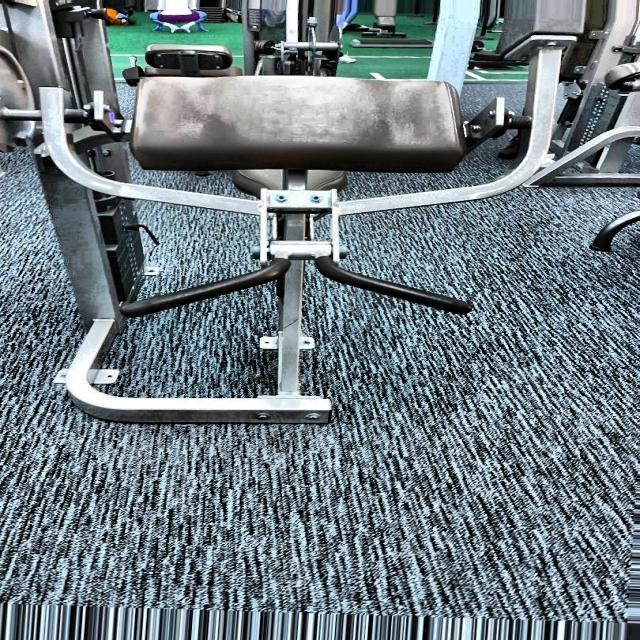bicep_curl_machine: (45, 52, 603, 453)
